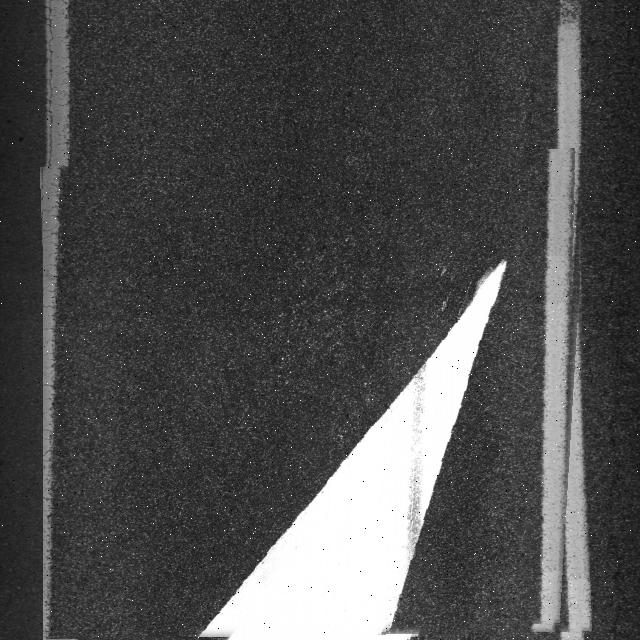chang_lane_right: (43, 152, 588, 640)
